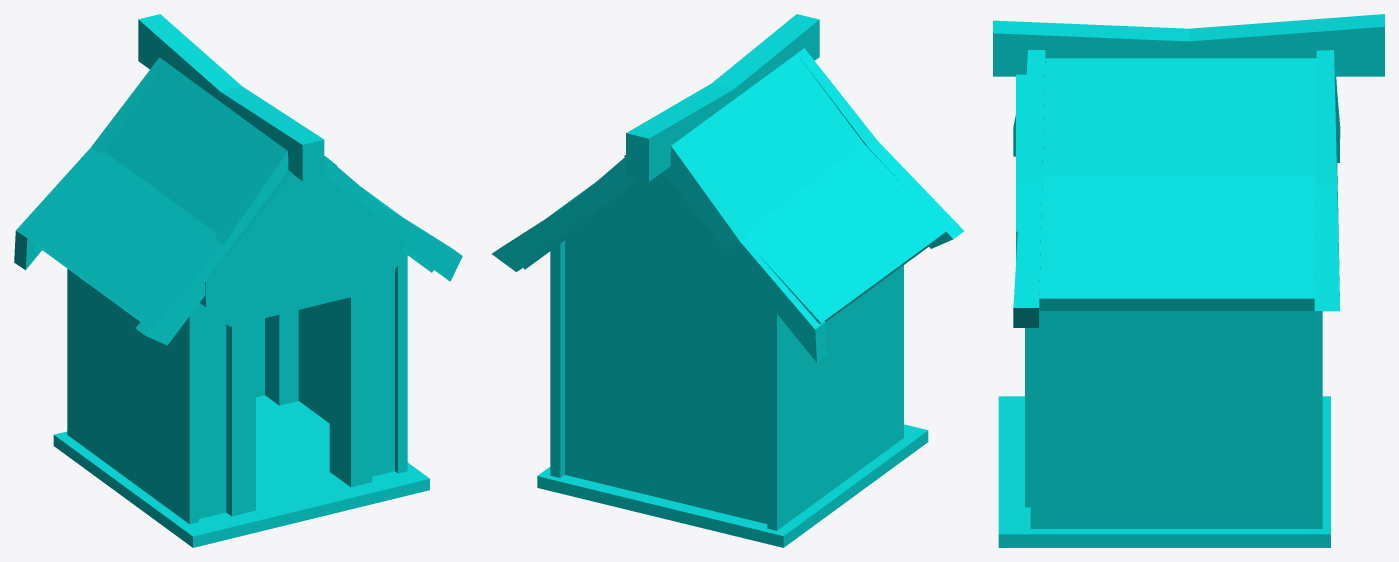
The model's file is SM_Prop_Shed_01_Collision.fbx.
3 renders of one model, left to right at view 1: azimuth 30°, elevation 25°; view 2: azimuth 150°, elevation 25°; view 3: azimuth 270°, elevation 25°, orthographic. The views are drawn at different scales.
Parts seen in each view (by area): view 1: SM_Prop_Shed_01_Collision; view 2: SM_Prop_Shed_01_Collision; view 3: SM_Prop_Shed_01_Collision.
Boxes of the visible parts, x1,y1,x2,y2 form: SM_Prop_Shed_01_Collision: [14, 14, 462, 547]; SM_Prop_Shed_01_Collision: [492, 14, 964, 547]; SM_Prop_Shed_01_Collision: [993, 14, 1384, 547].
Size of the model in its own units: 376 by 433 by 335.
